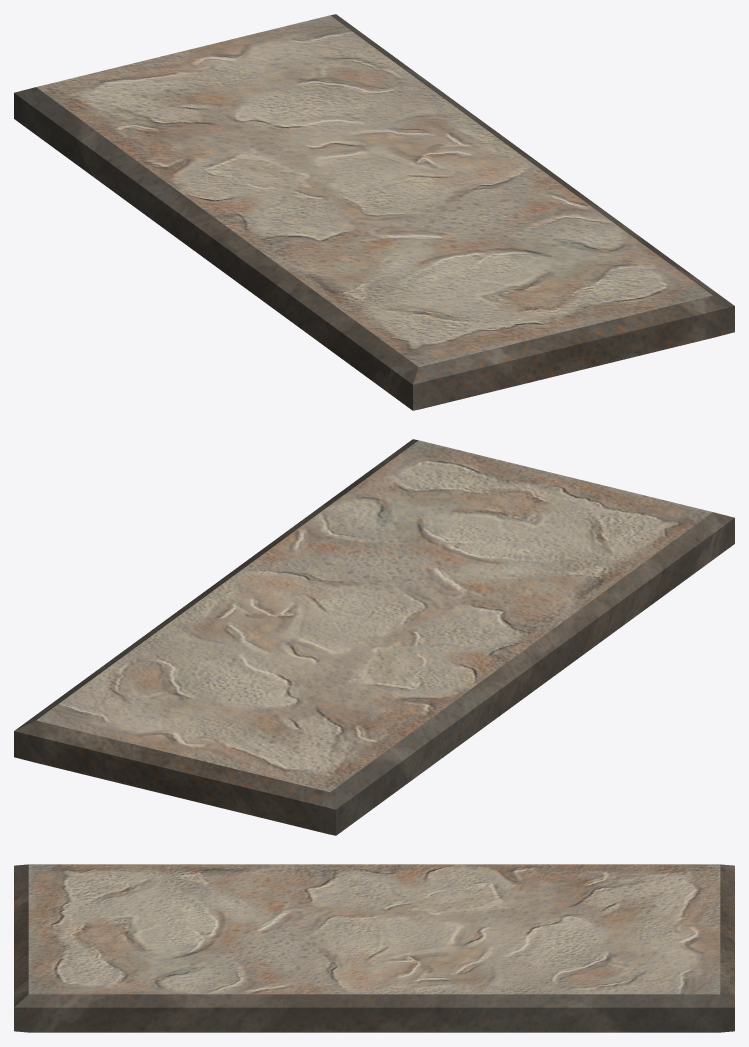
The model's file is SidePlatform.obj.
The picture shows the model from 3 angles, top to bottom: view 1: azimuth 30°, elevation 25°; view 2: azimuth 150°, elevation 25°; view 3: azimuth 270°, elevation 25°; orthographic projection. The views are drawn at different scales.
Visible parts, largest first — view 1: SidePlatform; view 2: SidePlatform; view 3: SidePlatform.
Part boxes in pixels (box(x1,y1,x2,y2)): SidePlatform: box(14, 14, 734, 410); SidePlatform: box(14, 439, 734, 835); SidePlatform: box(14, 864, 734, 1032).
Size of the model in its own units: 2.69 by 0.3389 by 5.77.
Materials: 1 (1 with a texture image).
